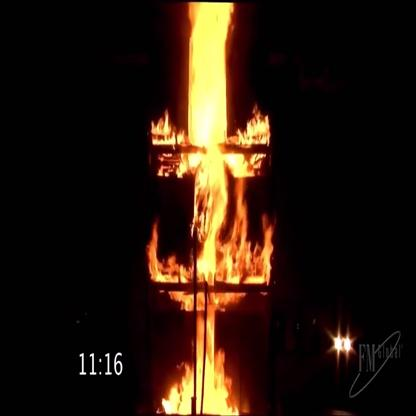Fire: (144, 2, 269, 416)
